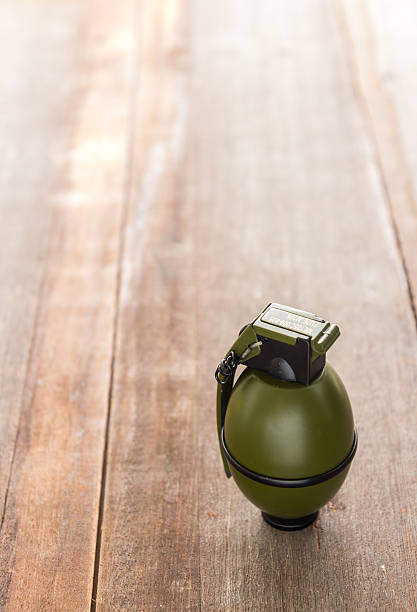e1: (213, 303, 358, 530)
